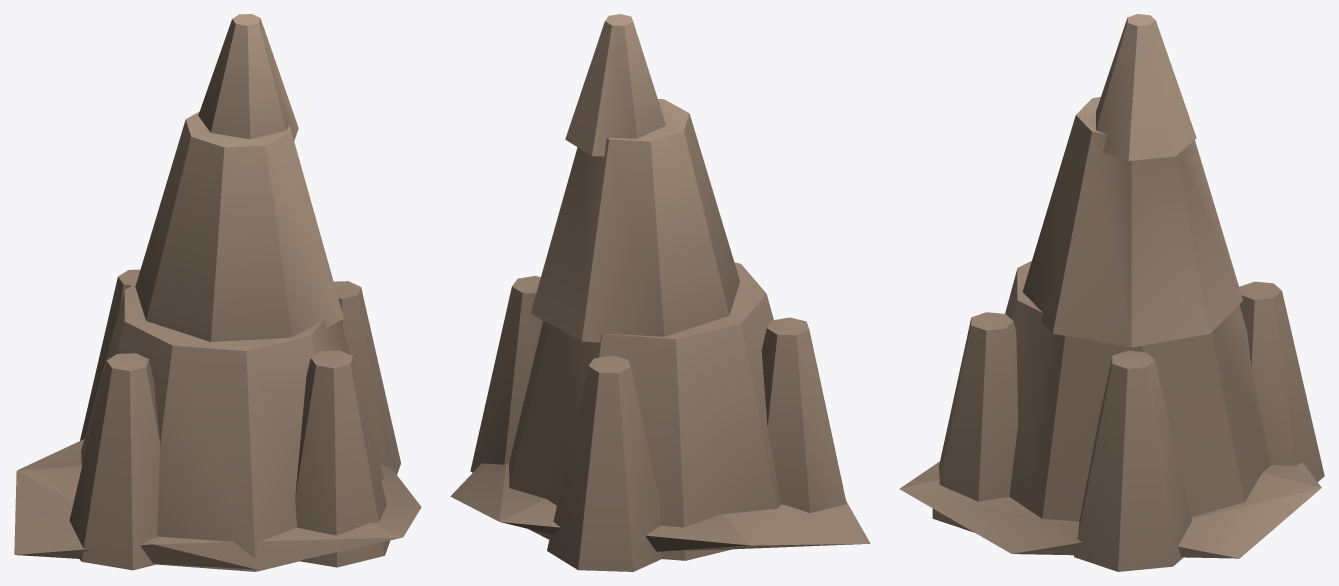
Rendered from mil_termite.glb.
3 views of the same model, side by side, from view 1: azimuth 30°, elevation 25°; view 2: azimuth 150°, elevation 25°; view 3: azimuth 270°, elevation 25° (orthographic). The views are drawn at different scales.
Visible parts, largest first — view 1: mil_termite; view 2: mil_termite; view 3: mil_termite.
Boxes of the visible parts, box(x1,y1,x2,y2) form: mil_termite: box(14, 14, 421, 571); mil_termite: box(450, 14, 870, 571); mil_termite: box(899, 14, 1324, 571).
Size of the model in its own units: 2.44 by 2.89 by 2.29.
